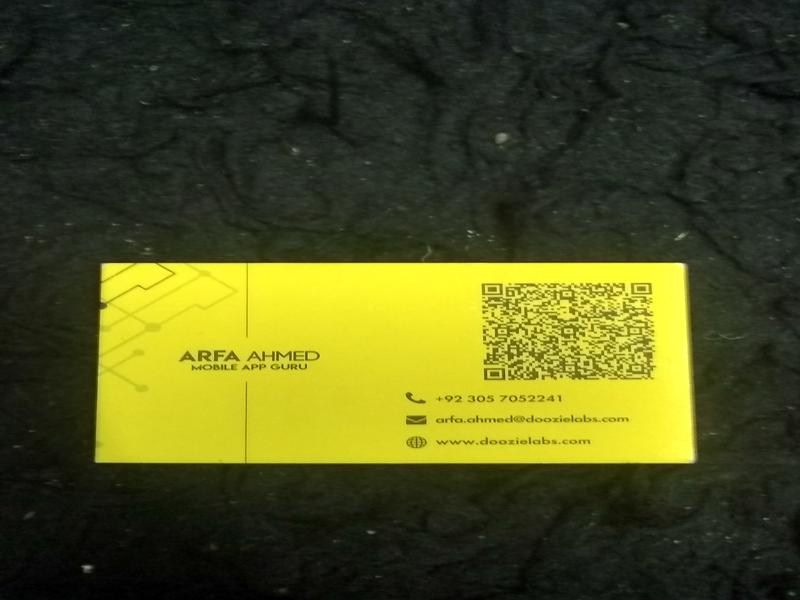front: (97, 258, 696, 464)
